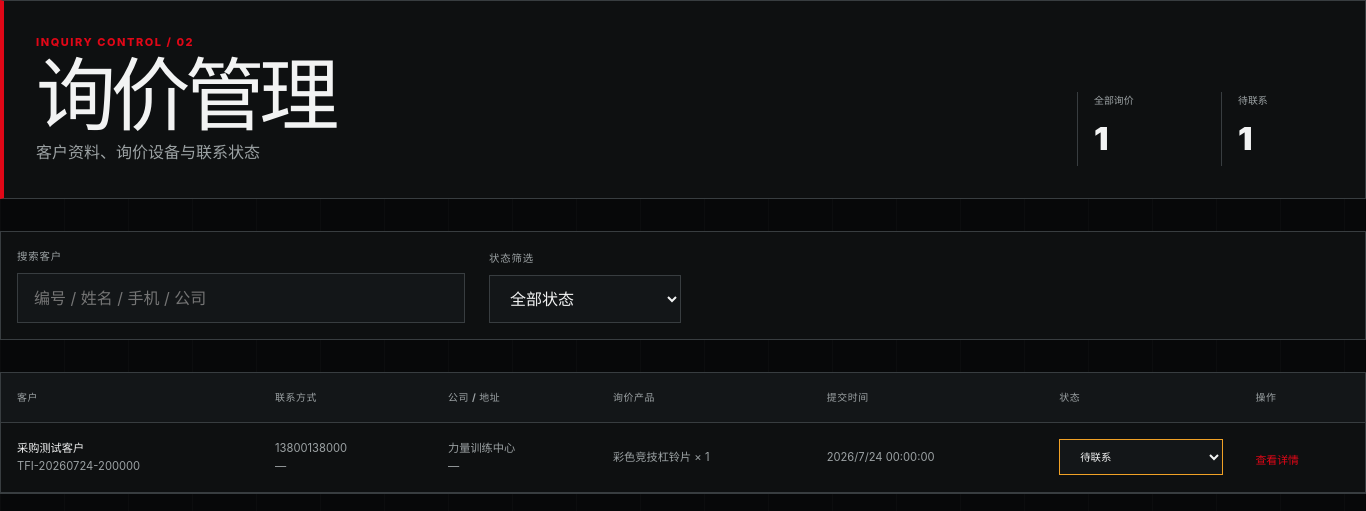
Test: AdminInquiriesPage › shows customer data and updates inquiry status
Check: the text "采购测试客户" is shown, box [17,441,84,455]
Select "已联系" in the dropdown named "修改 采购测试客户 的询价状态". click: (1141, 457)
box: [1059,439,1223,475]
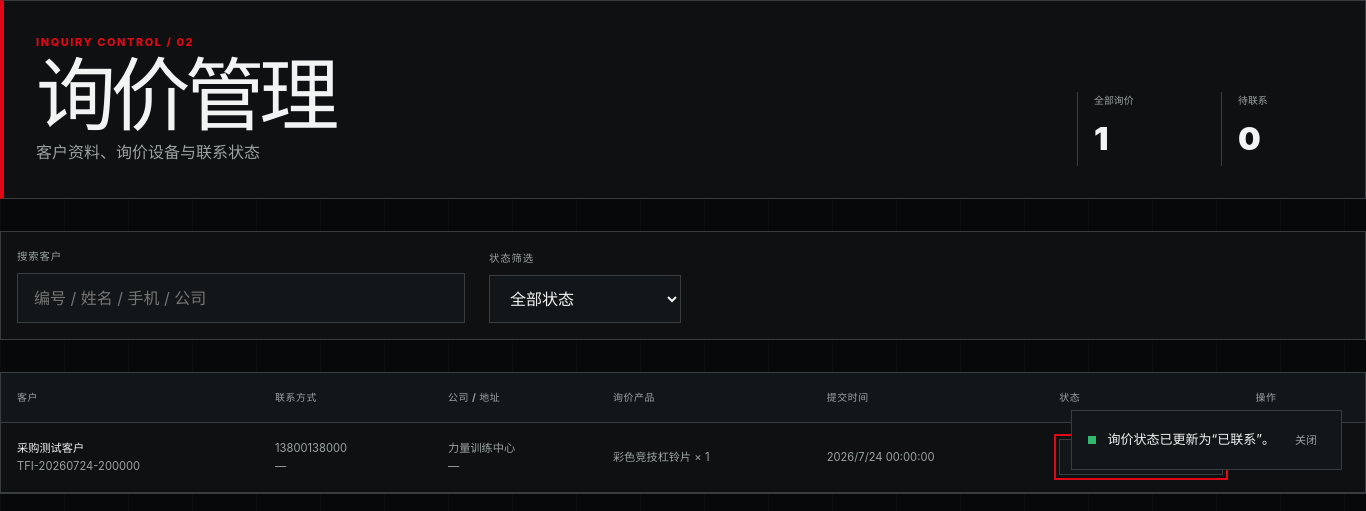
Check: the text "询价状态已更新为“已联系”。" is shown, box [1108,429,1275,450]
